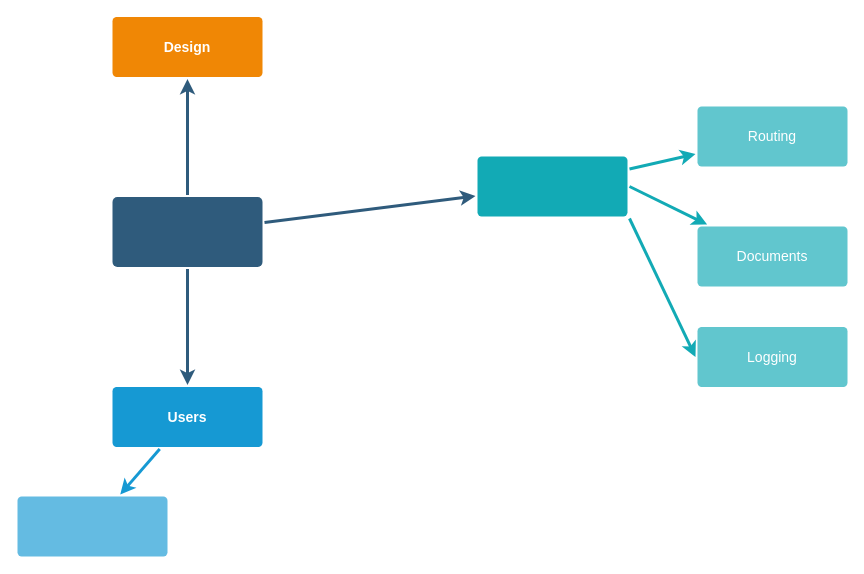
The diagram is 864 pixels wide and 574 high, and some of its shapes have lost their labels. Each missing label, with the centre of its shape:
BPMS: point 187,231
Roles: point 92,526
Workflow: point 552,186
